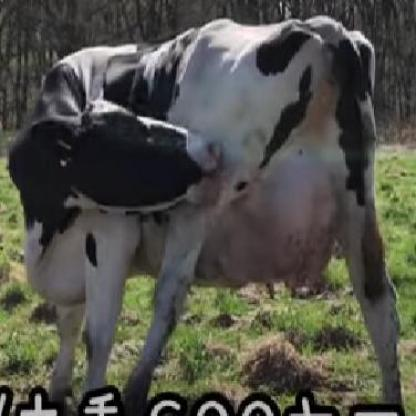cow: (10, 21, 404, 412)
